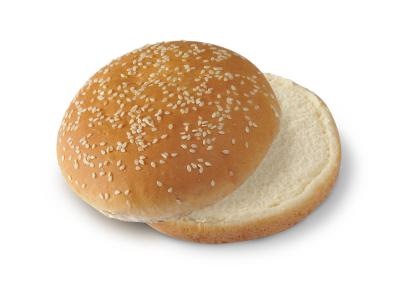hamburger_buns: (41, 33, 374, 247)
